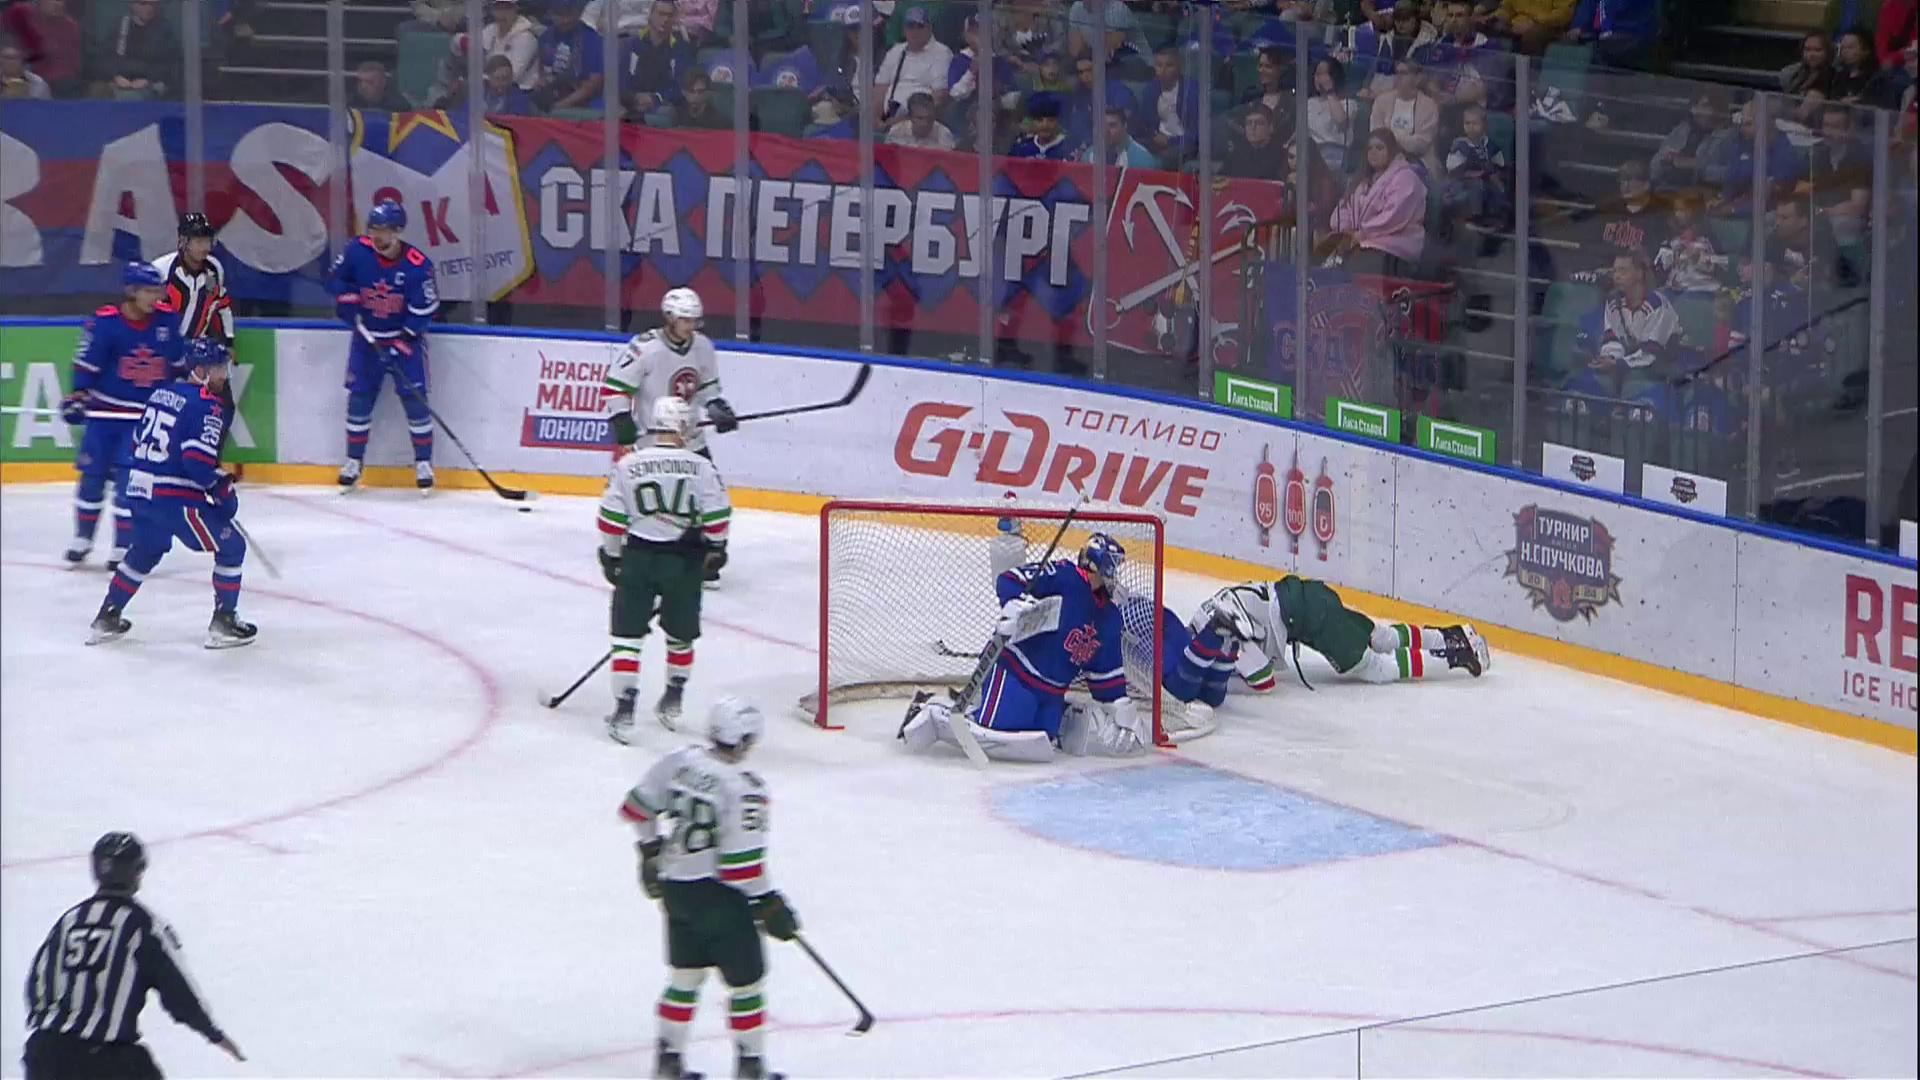ball: (518, 508, 533, 514)
